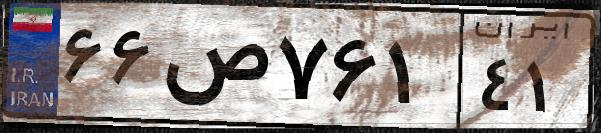1: (385, 28, 445, 110), (525, 38, 570, 115)
4: (475, 38, 525, 113)
6: (330, 28, 385, 110), (57, 26, 110, 100), (110, 28, 158, 98)
7: (270, 28, 330, 110)
ص: (158, 20, 270, 120)
